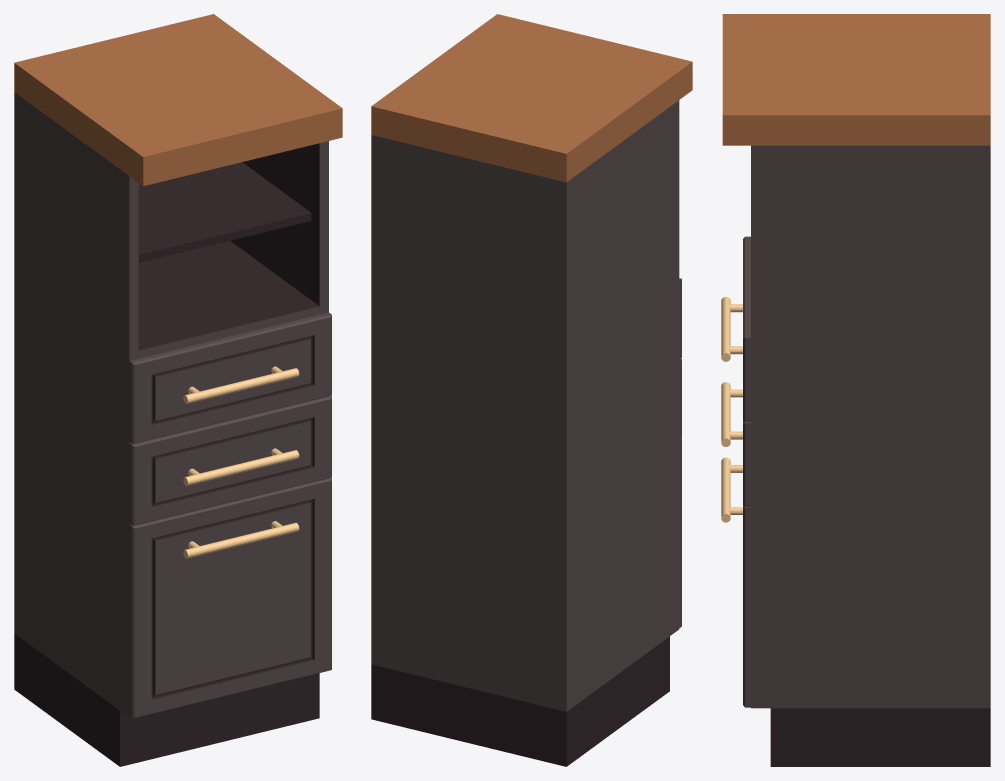
File: Prop_KitchenCabinet_02_L.fbx
3 views of the same model, side by side, from view 1: azimuth 30°, elevation 25°; view 2: azimuth 150°, elevation 25°; view 3: azimuth 270°, elevation 25° (orthographic). The views are drawn at different scales.
Parts seen in each view (by area): view 1: Prop_KitchenCabinet_02_L; view 2: Prop_KitchenCabinet_02_L; view 3: Prop_KitchenCabinet_02_L.
Part boxes in pixels (bbox=[...]): Prop_KitchenCabinet_02_L: bbox=[14, 14, 342, 766]; Prop_KitchenCabinet_02_L: bbox=[371, 14, 692, 766]; Prop_KitchenCabinet_02_L: bbox=[721, 14, 990, 766].
Size of the model in its own units: 60 by 180 by 67.48.
